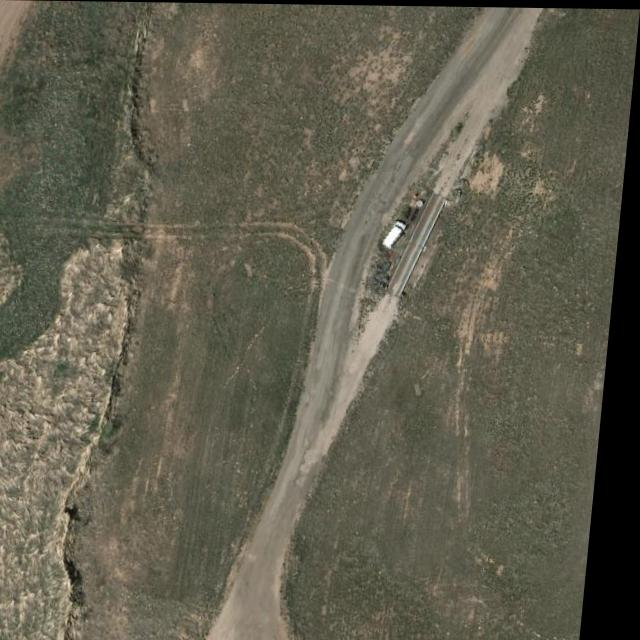vehicle: (384, 219, 412, 251)
